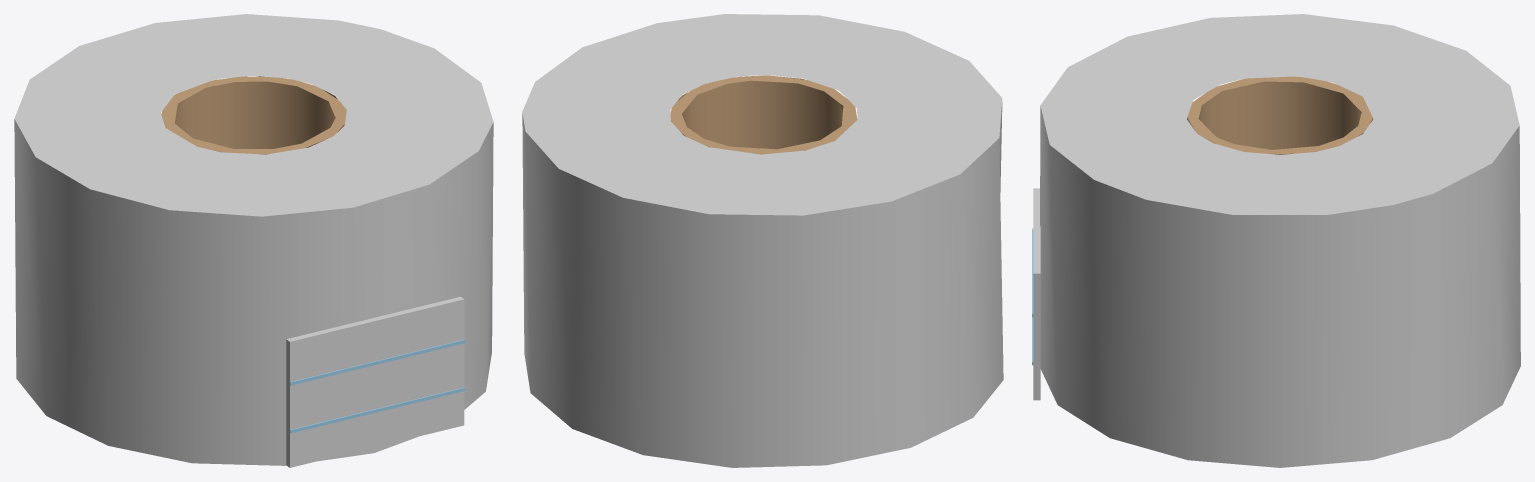
The model's file is papel_higienico.glb.
3 renders of one model, left to right at view 1: azimuth 30°, elevation 25°; view 2: azimuth 150°, elevation 25°; view 3: azimuth 270°, elevation 25°, orthographic.
Parts seen in each view (by area): view 1: PapelHigienico; view 2: PapelHigienico; view 3: PapelHigienico.
Part boxes in pixels (x1,y1,x2,y2): PapelHigienico: (14, 14, 493, 467); PapelHigienico: (522, 14, 1003, 467); PapelHigienico: (1032, 14, 1520, 467).
Size of the model in its own units: 2 by 1.15 by 2.03.
